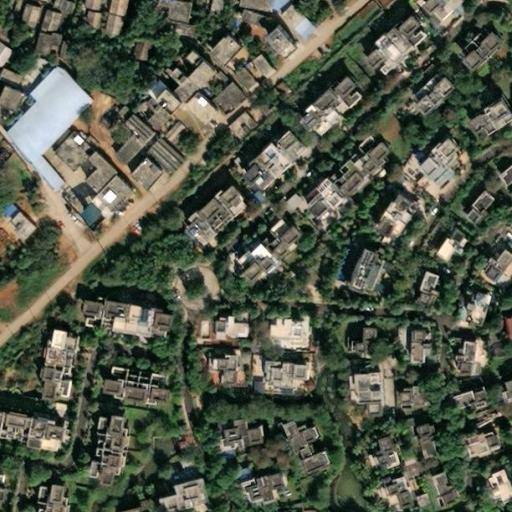building: (0, 65, 85, 160), (295, 124, 382, 211), (233, 123, 297, 185), (228, 209, 290, 273), (175, 175, 237, 238), (355, 8, 417, 69), (291, 66, 346, 122), (81, 403, 117, 474), (33, 319, 68, 392), (273, 412, 319, 467), (74, 291, 163, 317), (408, 127, 454, 176), (81, 167, 125, 211), (458, 90, 504, 131), (0, 402, 57, 435), (366, 182, 403, 231), (403, 65, 446, 106), (44, 128, 85, 169), (452, 22, 493, 63), (339, 238, 373, 285), (372, 471, 409, 511), (94, 369, 160, 391), (345, 361, 374, 410), (138, 136, 176, 173), (21, 154, 58, 191), (255, 354, 298, 384), (26, 472, 57, 512), (238, 464, 274, 498), (176, 84, 211, 118), (450, 284, 482, 321), (474, 240, 505, 277), (454, 424, 493, 453), (114, 109, 147, 142), (201, 21, 234, 54), (206, 307, 239, 340), (479, 463, 508, 500), (215, 411, 253, 439), (122, 149, 154, 182), (105, 131, 136, 163), (427, 226, 459, 257), (457, 185, 484, 221), (423, 465, 449, 502), (166, 471, 199, 500), (404, 418, 430, 454), (10, 58, 39, 90), (200, 349, 228, 382), (136, 95, 163, 129), (261, 308, 295, 334), (179, 50, 208, 79), (368, 429, 391, 465), (409, 266, 430, 304), (146, 76, 174, 104), (220, 109, 248, 137), (446, 336, 468, 371), (393, 381, 425, 405), (81, 146, 107, 174), (2, 209, 27, 238), (488, 151, 512, 180), (257, 10, 283, 36), (204, 77, 229, 104), (402, 325, 422, 358), (104, 309, 142, 326), (105, 383, 148, 397), (76, 161, 100, 186), (166, 71, 191, 95), (446, 384, 479, 402), (347, 322, 368, 350), (32, 8, 54, 33), (215, 85, 238, 108), (232, 2, 260, 20), (130, 37, 151, 61), (227, 64, 248, 87), (244, 47, 265, 70), (28, 29, 52, 49), (496, 363, 512, 392), (286, 15, 307, 36), (95, 13, 114, 36), (165, 433, 187, 452), (72, 193, 92, 213), (498, 300, 512, 328), (76, 10, 94, 31), (150, 486, 171, 504), (0, 36, 12, 67), (177, 41, 195, 60), (110, 498, 134, 512), (159, 3, 181, 18), (161, 61, 179, 78), (237, 106, 253, 123), (406, 492, 421, 508), (173, 461, 189, 475), (109, 105, 123, 119), (191, 324, 201, 343), (228, 343, 243, 355), (268, 383, 284, 394), (142, 368, 158, 379), (212, 431, 226, 442), (102, 362, 117, 372), (50, 42, 57, 60), (46, 404, 58, 414), (245, 381, 255, 392), (134, 93, 142, 102)
